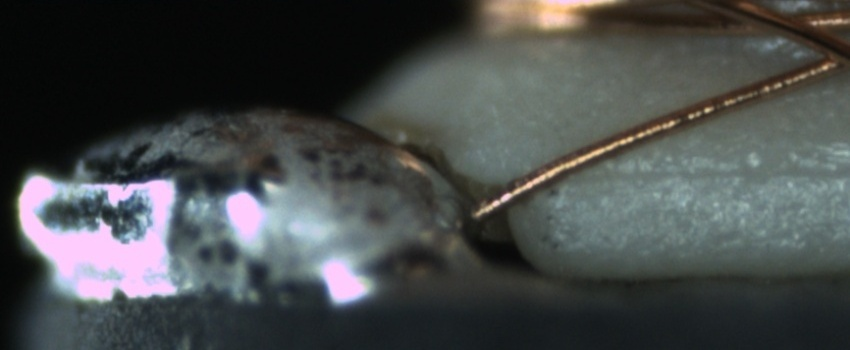CL: (791, 28, 849, 84)
DL: (577, 139, 842, 205)
